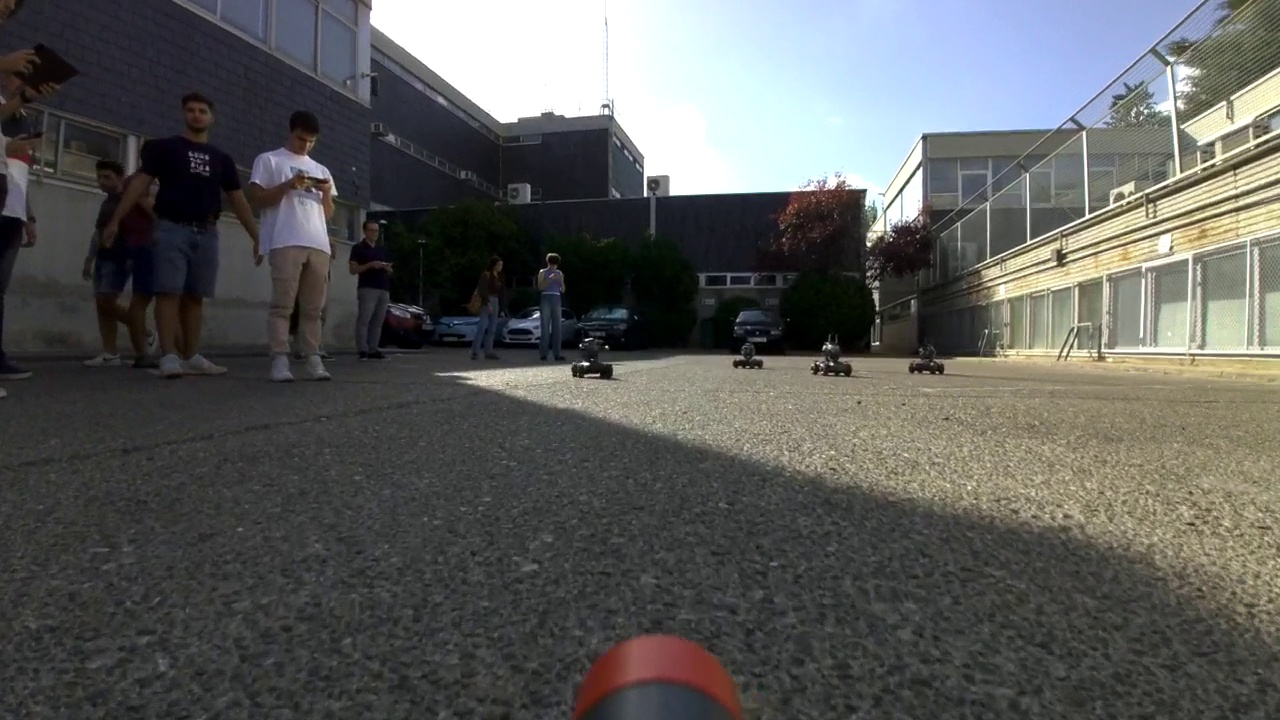robot: (571, 324, 616, 382), (811, 333, 856, 377), (910, 340, 946, 377), (732, 339, 763, 370)
